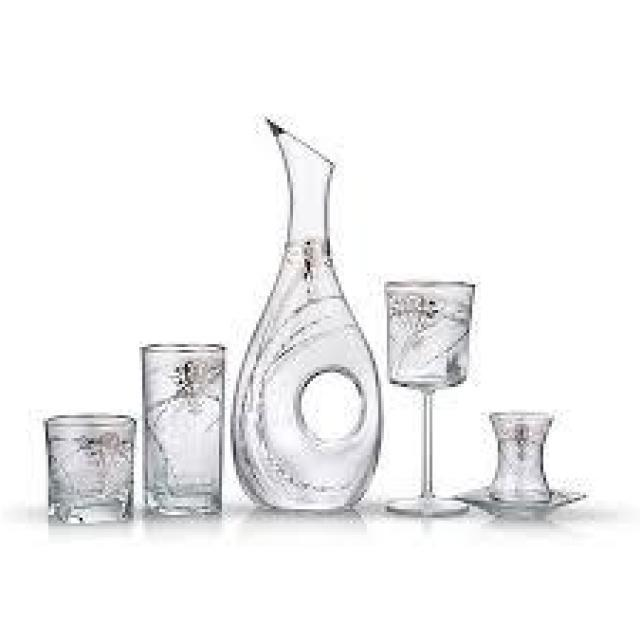glass: (228, 111, 388, 518), (377, 274, 488, 522), (452, 408, 594, 525), (140, 338, 230, 518), (41, 408, 138, 528)
